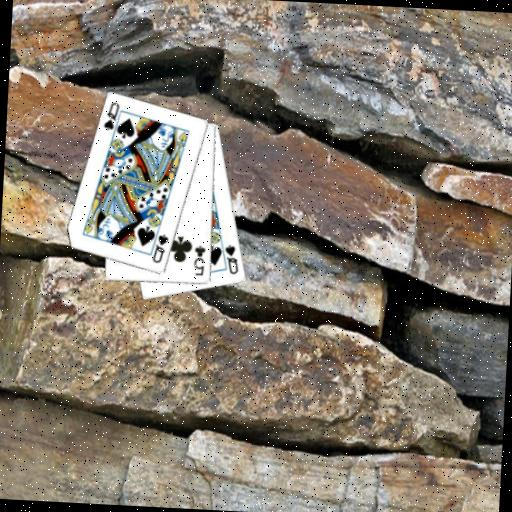5C: (190, 243, 207, 278)
QS: (150, 231, 171, 266), (100, 99, 121, 132), (221, 242, 241, 276)
